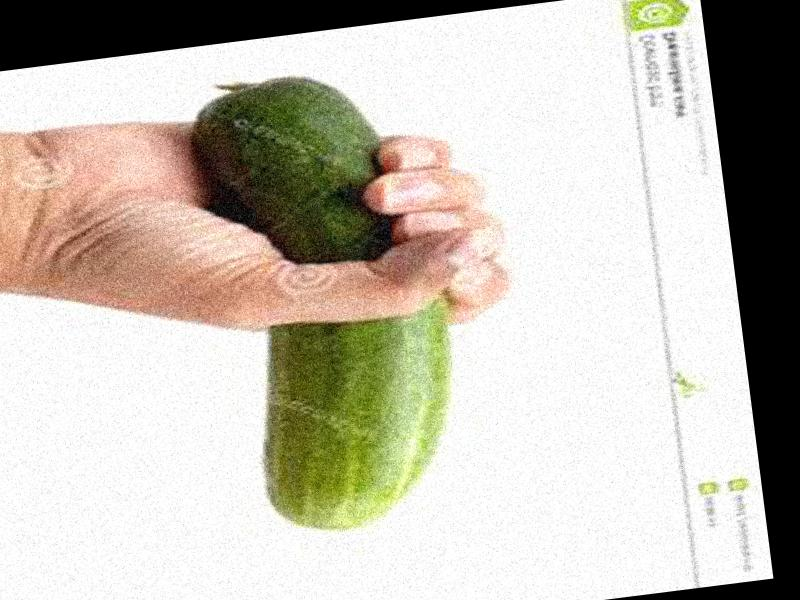Cucumber: (190, 63, 477, 542)
